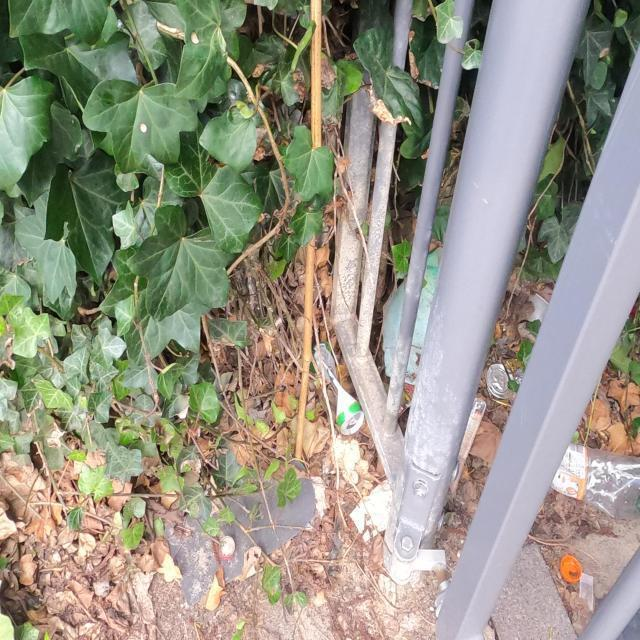Can-Metal: (310, 344, 364, 436), (483, 361, 523, 407)
